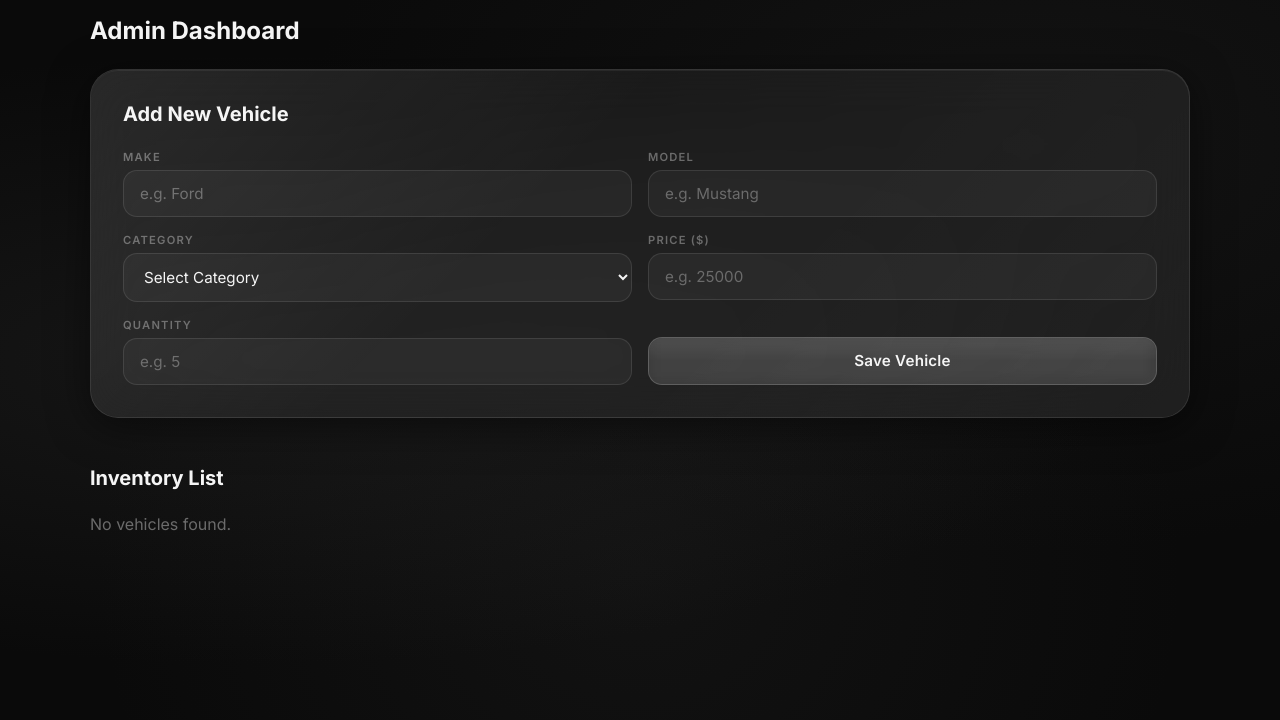
Test: AdminPage › shows an error if saving a vehicle fails
Note: Fill out the required fields
Step 1. Type "Tesla" into the field labelled "Make" → (378, 194), box [123,170,632,217]
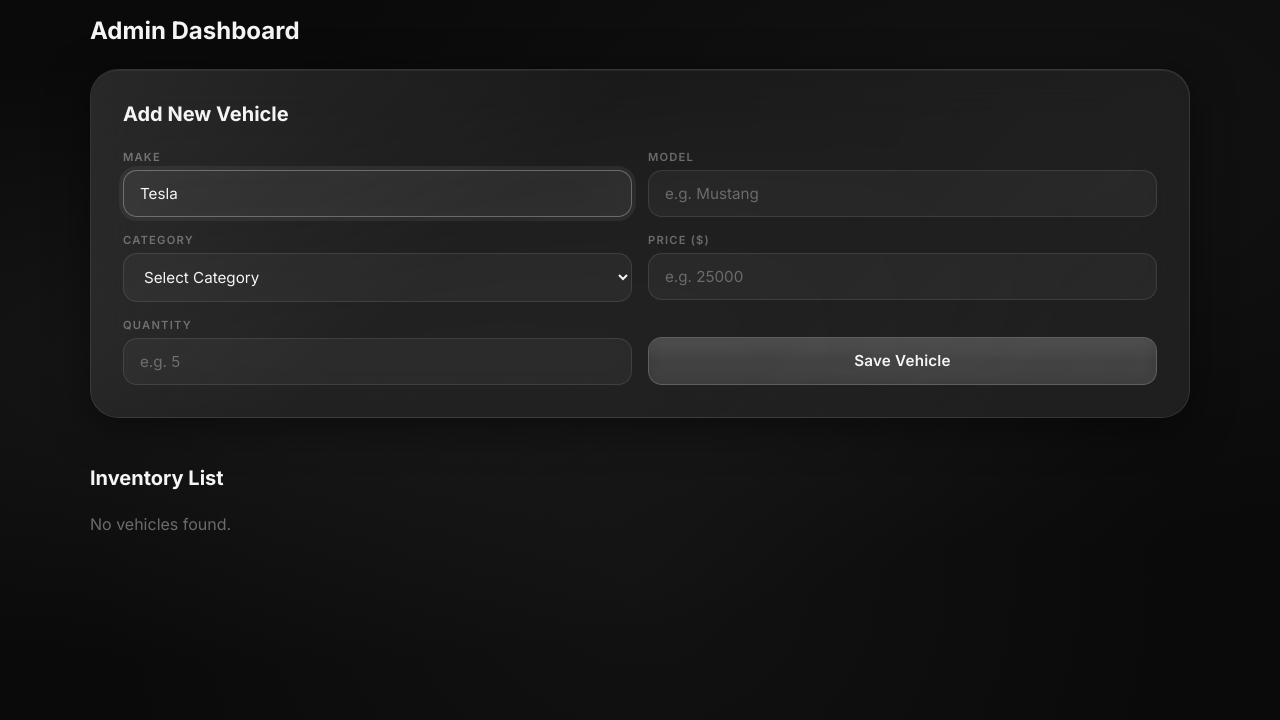
Step 2. Type "Model 3" into the field labelled "Model" → (902, 194), box [648,170,1157,217]
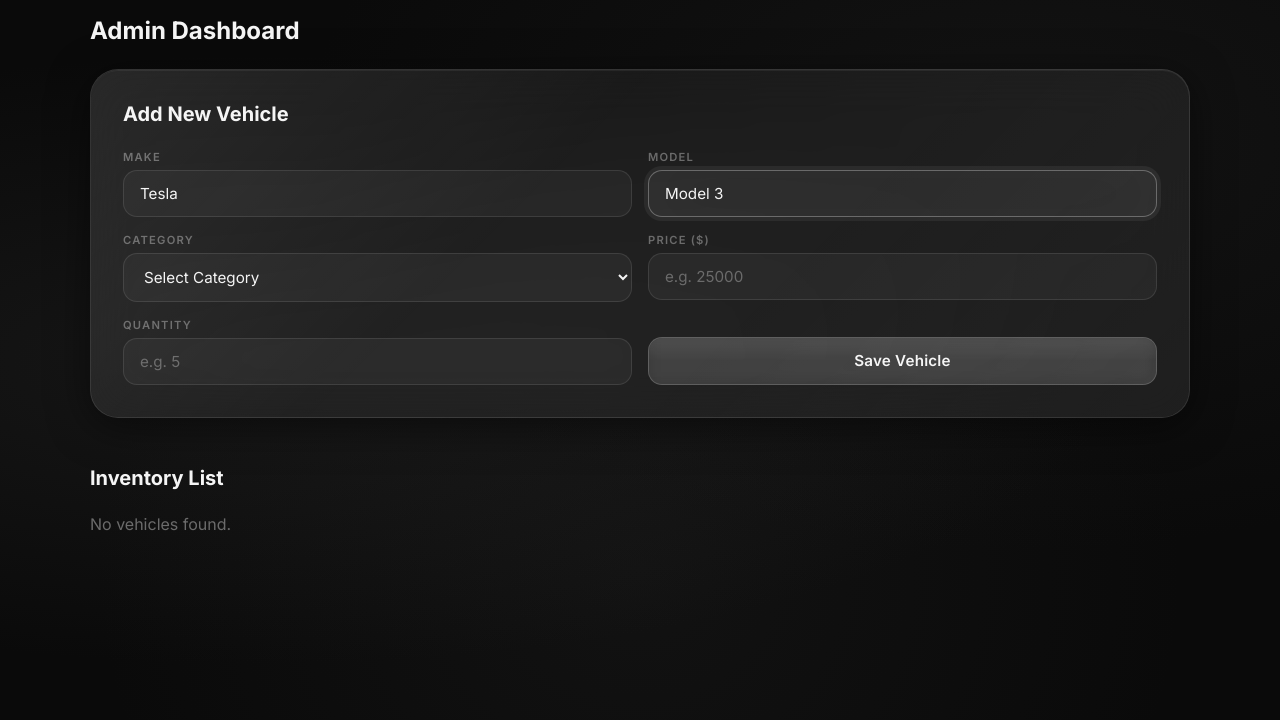
Step 3. Select "Sedan" in the dropdown labelled "Category" → (378, 278), box [123,253,632,302]
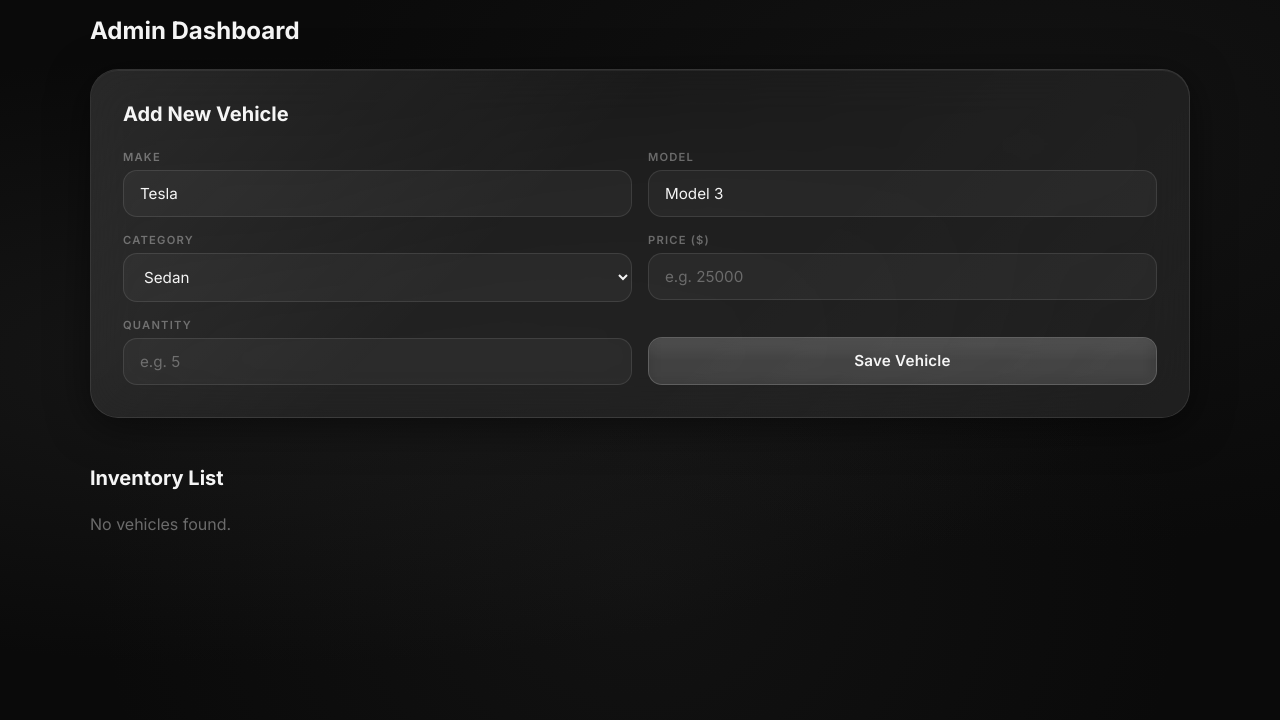
Step 4. Type "40000" into the number field labelled "Price ($)" → (902, 277), box [648,253,1157,300]
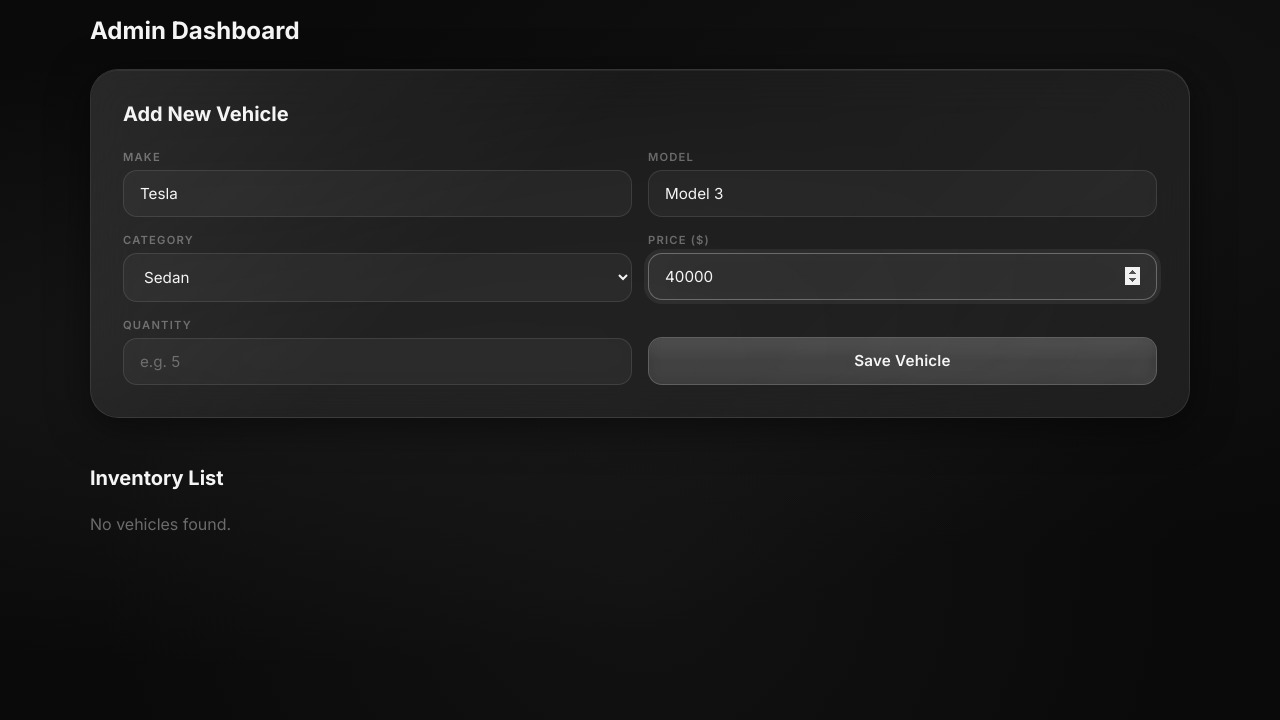
Step 5. Type "5" into the number field labelled "Quantity" → (378, 362), box [123,338,632,385]
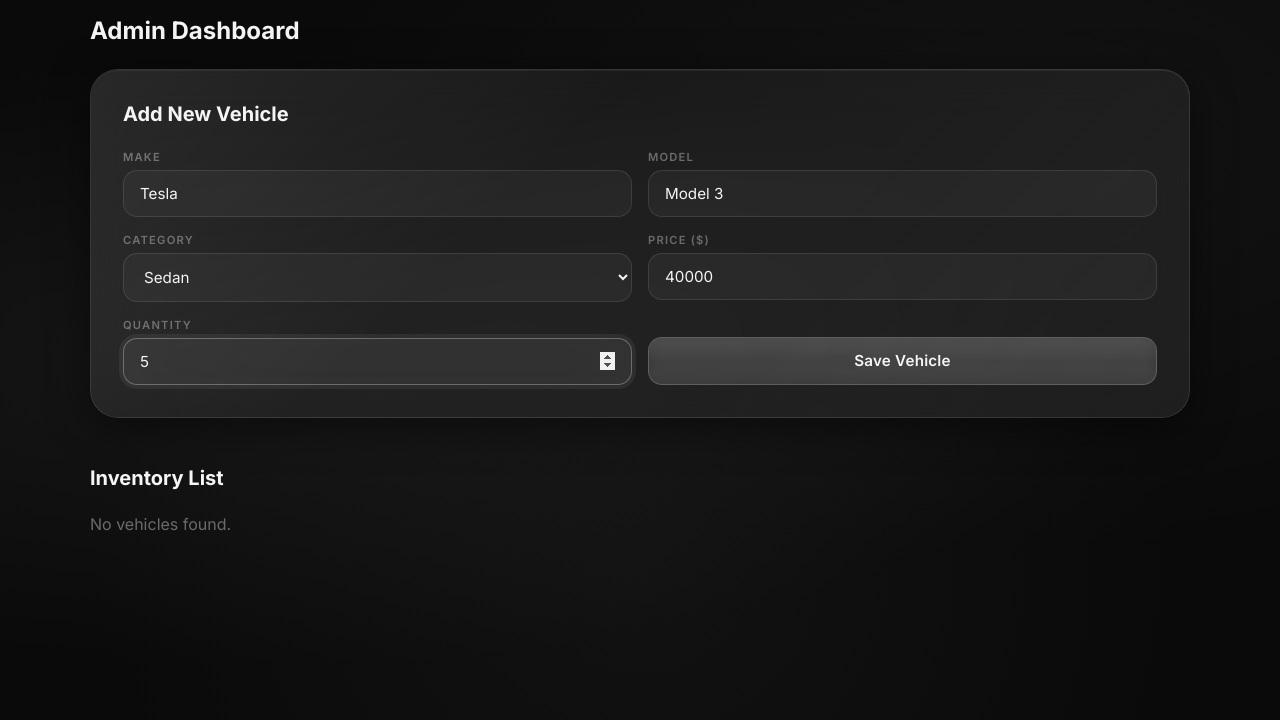
Step 6. Click the button "Save Vehicle" → (902, 361), box [648,337,1157,385]
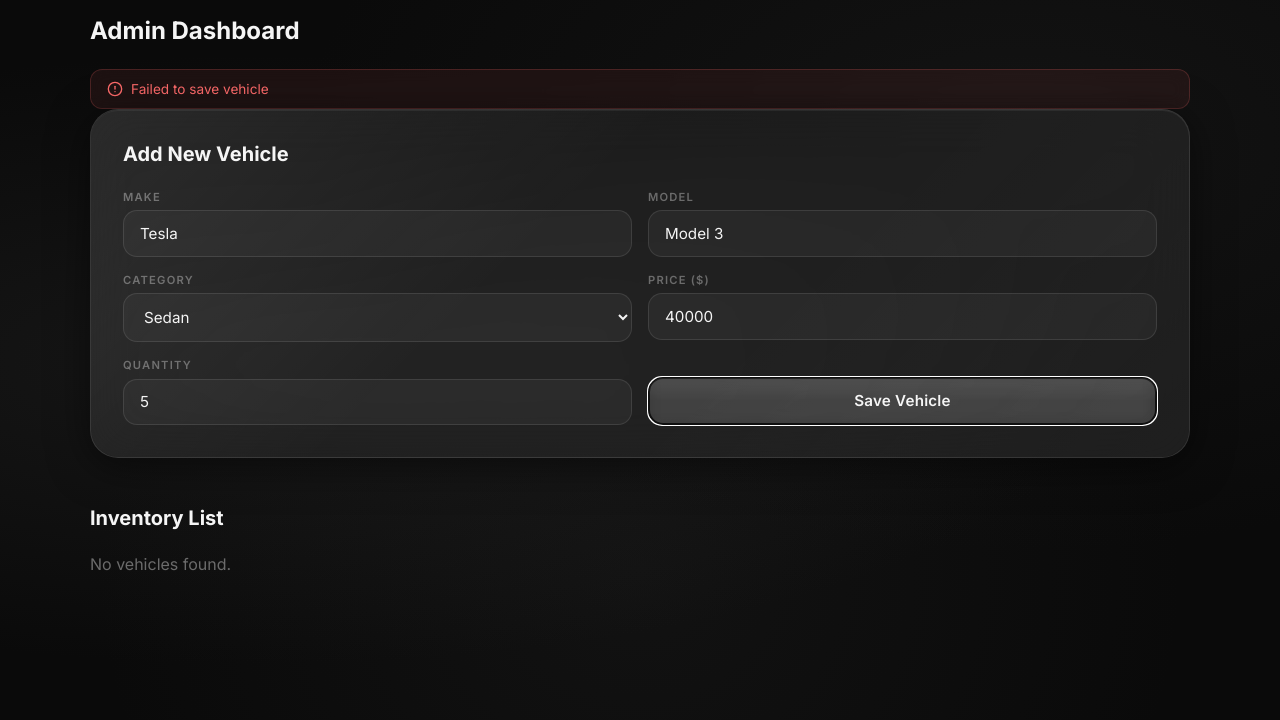
Check: the text "Failed to save vehicle" is shown, box [90,69,1190,109]
